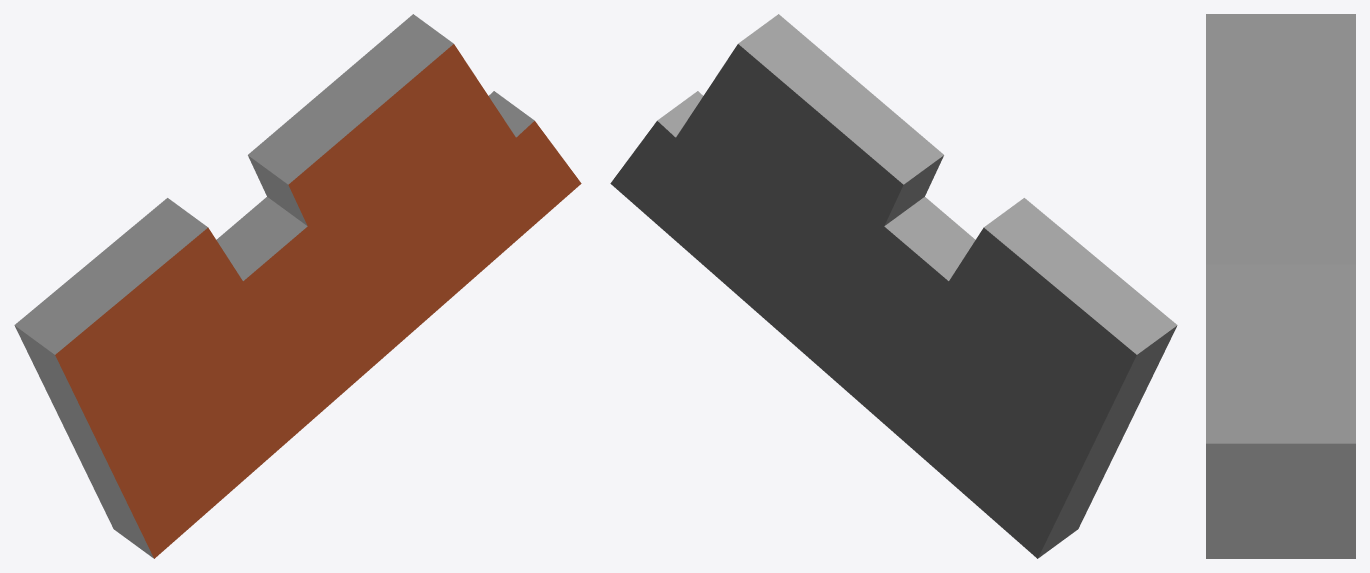
The model's file is construction_0206_assumed_A_Casa_h6m.obj.
3 renders of one model, left to right at view 1: azimuth 30°, elevation 25°; view 2: azimuth 150°, elevation 25°; view 3: azimuth 270°, elevation 25°, orthographic. The views are drawn at different scales.
Parts seen in each view (by area): view 1: construction_0206_assumed_A_Casa; view 2: construction_0206_assumed_A_Casa; view 3: construction_0206_assumed_A_Casa.
Part boxes in pixels (x1,y1,x2,y2): construction_0206_assumed_A_Casa: (14,14,581,558); construction_0206_assumed_A_Casa: (610,14,1177,558); construction_0206_assumed_A_Casa: (1206,14,1355,558).
Size of the model in its own units: 44.85 by 35.98 by 6.
